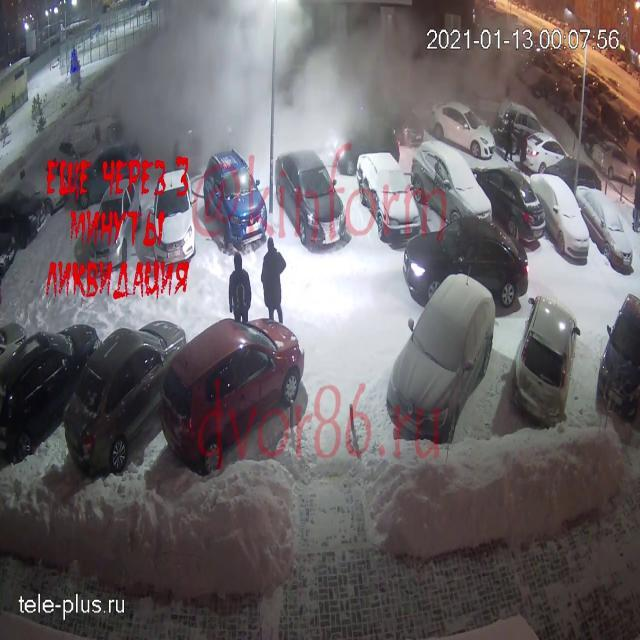Smoke: (105, 0, 491, 150)
